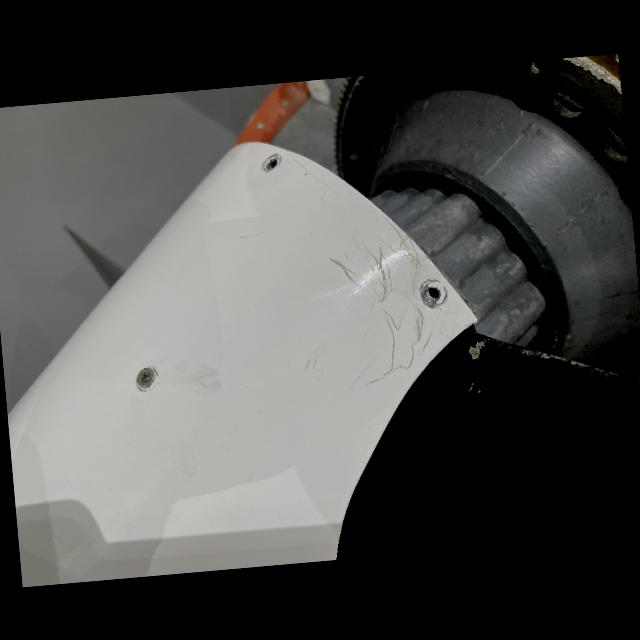Missing Fastener: (410, 274, 453, 322), (252, 152, 288, 176)
